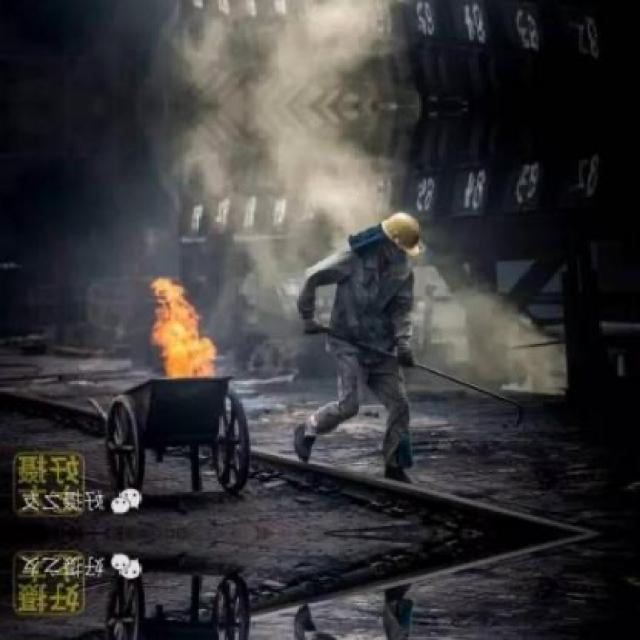helmet: (379, 207, 426, 256)
